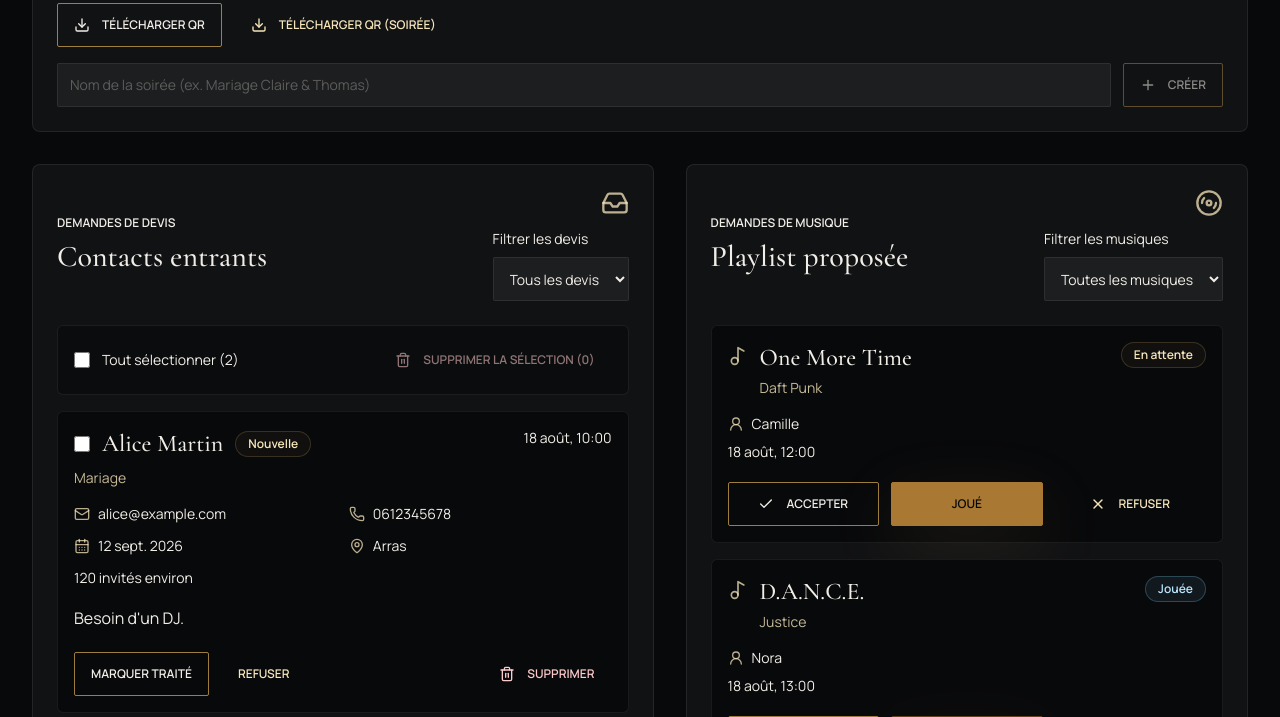
Test: AdminPage › quote deletion › deletes all selected quotes at once
(page scrolled)
Expected: the heading "Alice Martin" is shown, [102,428,223,460]
Expected: the button "Supprimer la sélection (0)" is disabled, [378,338,612,382]
Click the checkbox labelled "Tout sélectionner (2)" at (82, 360), box [74,352,90,368]
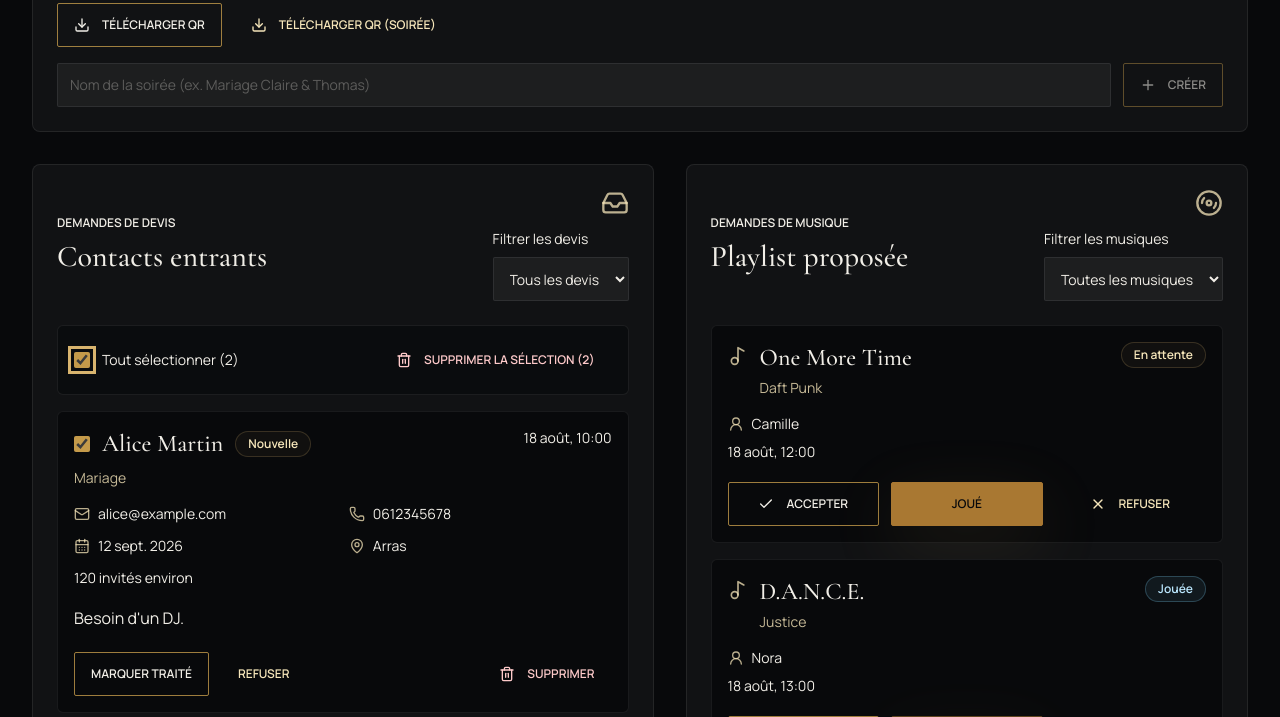
Click the button "Supprimer la sélection (2)" at (495, 360), box [379,338,612,382]
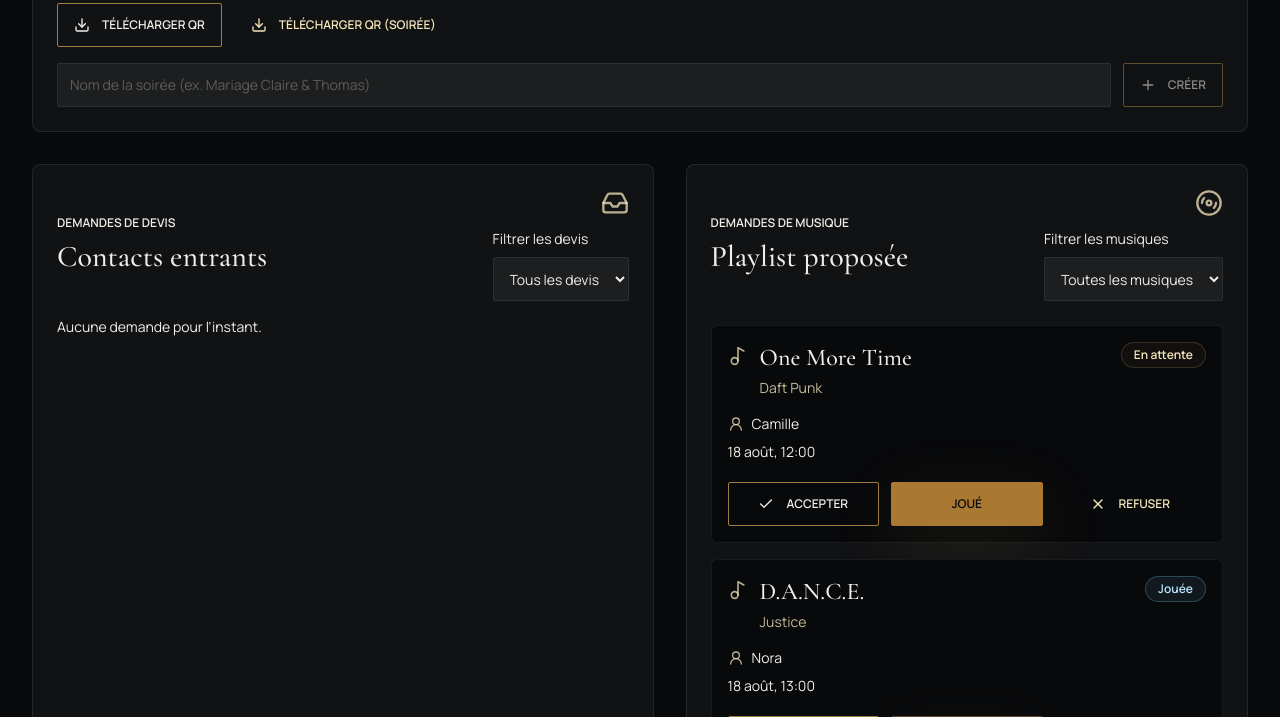
Now the text "Aucune demande pour l'instant." is shown, box [57,317,262,336]
